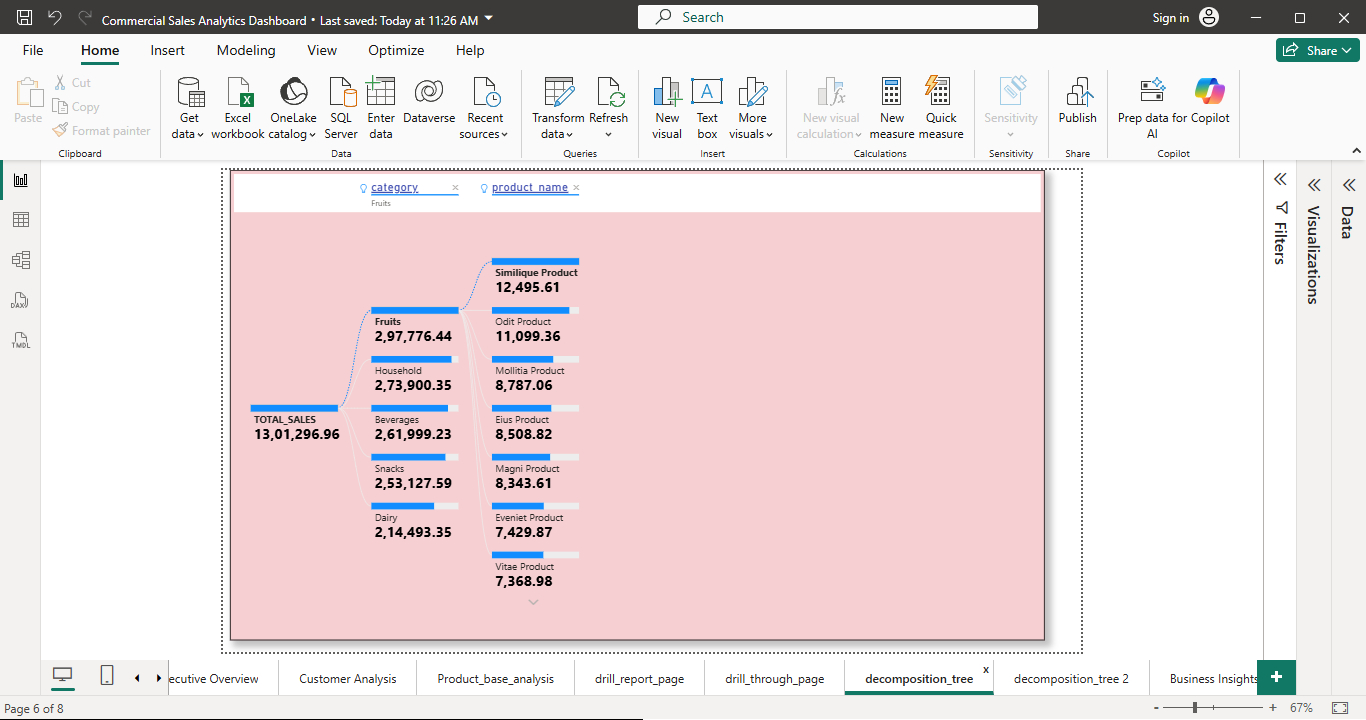

The dashboard page shown, as its layout file describes it:
{"tool":"powerbi","page":{"name":"decomposition_tree","canvas":[1280,720],"ordinal":5},"visuals":[{"type":"decompositionTreeVisual","fields":{"Analyze":["Measure_Table.TOTAL_SALES"],"ExplainBy":["delivery_partner products.category","delivery_partner products.product_name"]},"box":[10.1,0,1216.2,702.2],"z":0}]}

Visuals, with their boxes on the page's 1280x720 design canvas (x1, y1, x2, y2). These are canvas units, not pixel positions in the 1366x720 screenshot, which may show the page scaled, cropped or inside an application window:
decompositionTreeVisual - Measure_Table.TOTAL_SALES x delivery_partner products.category: box=[10, 0, 1226, 702]
